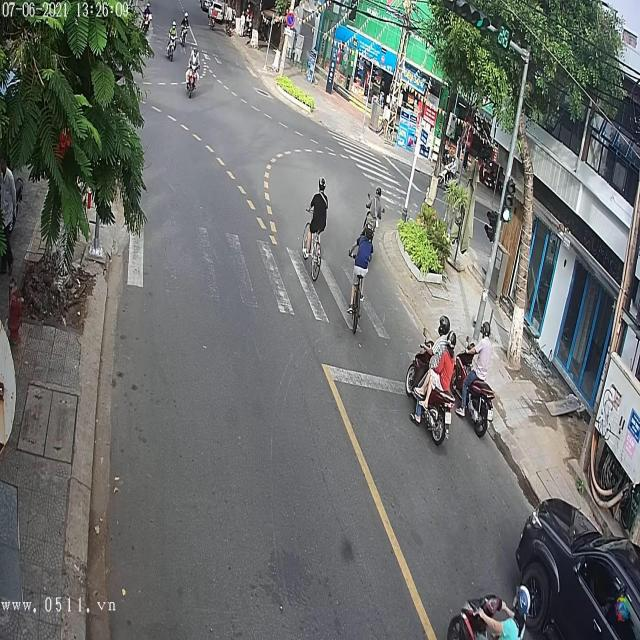motorcycle: (405, 328, 459, 446), (452, 340, 497, 439), (186, 70, 200, 98), (167, 30, 177, 62), (180, 20, 190, 50)
